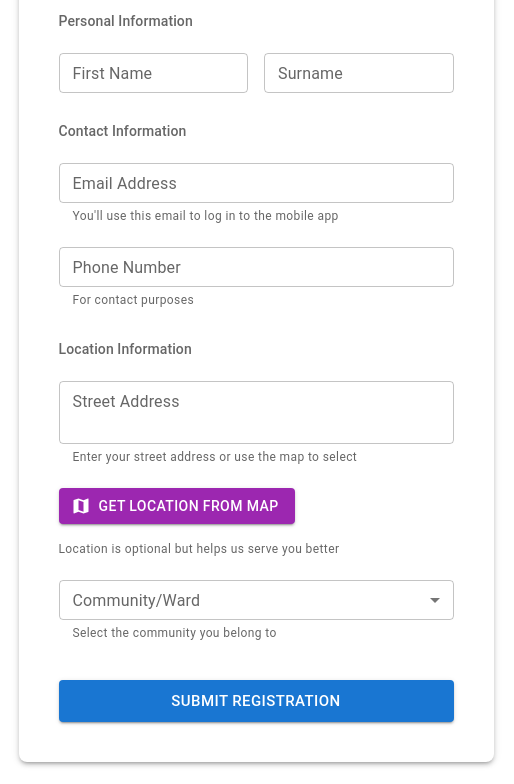
RegisterPage › form submission › should allow selecting a sector
(page scrolled)
Select sector
Click the dropdown named "community/ward" at (256, 600), box [58, 580, 454, 620]
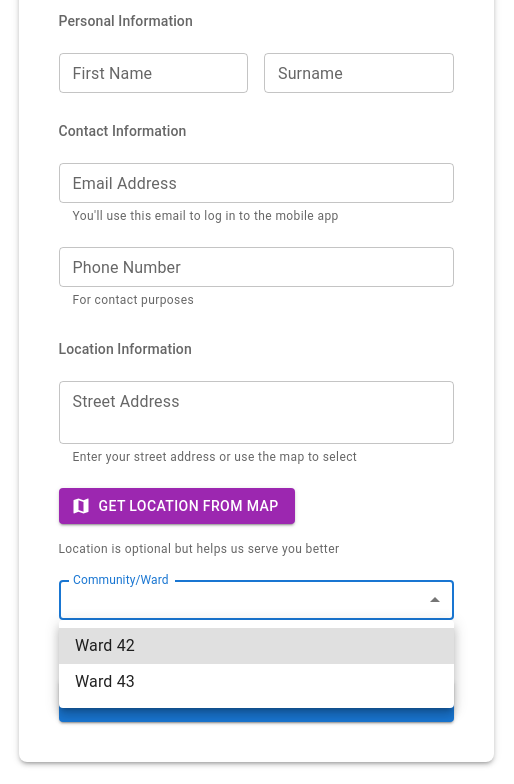
Click the option "Ward 42" at (105, 646), box [59, 628, 454, 664]
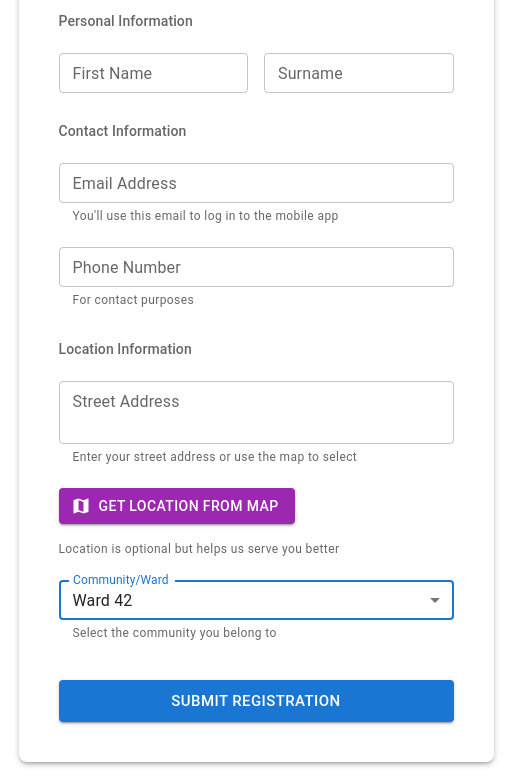
Check: the dropdown "Ward 42" is shown, box [72, 591, 132, 610]
